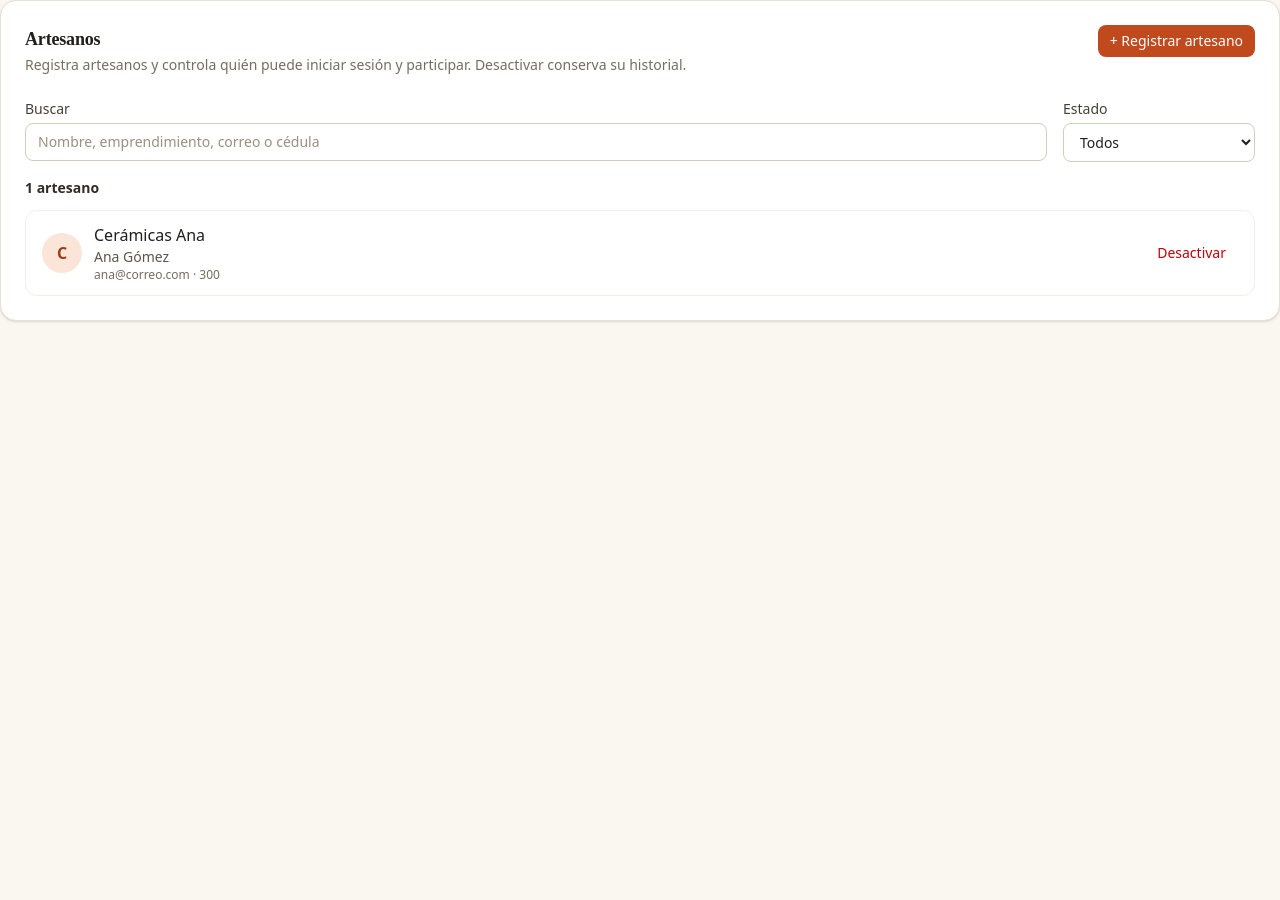
Test: GestionArtesanos: cambiar el estado › cancelar la confirmación no cambia nada
Click the button "Desactivar".
click(1192, 253)  # box [1145,237,1238,269]
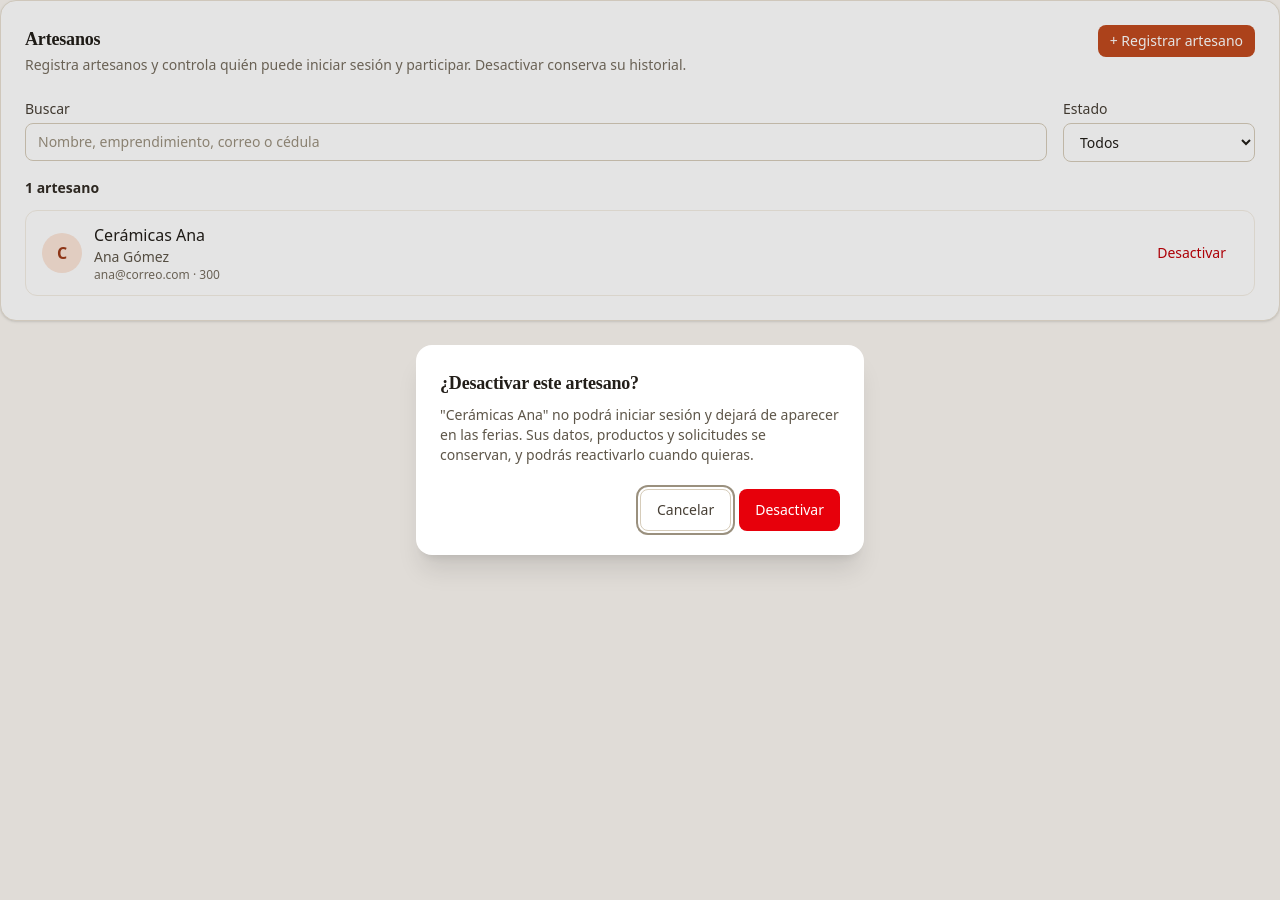
Click the button "Cancelar".
click(686, 510)  # box [640,489,731,531]
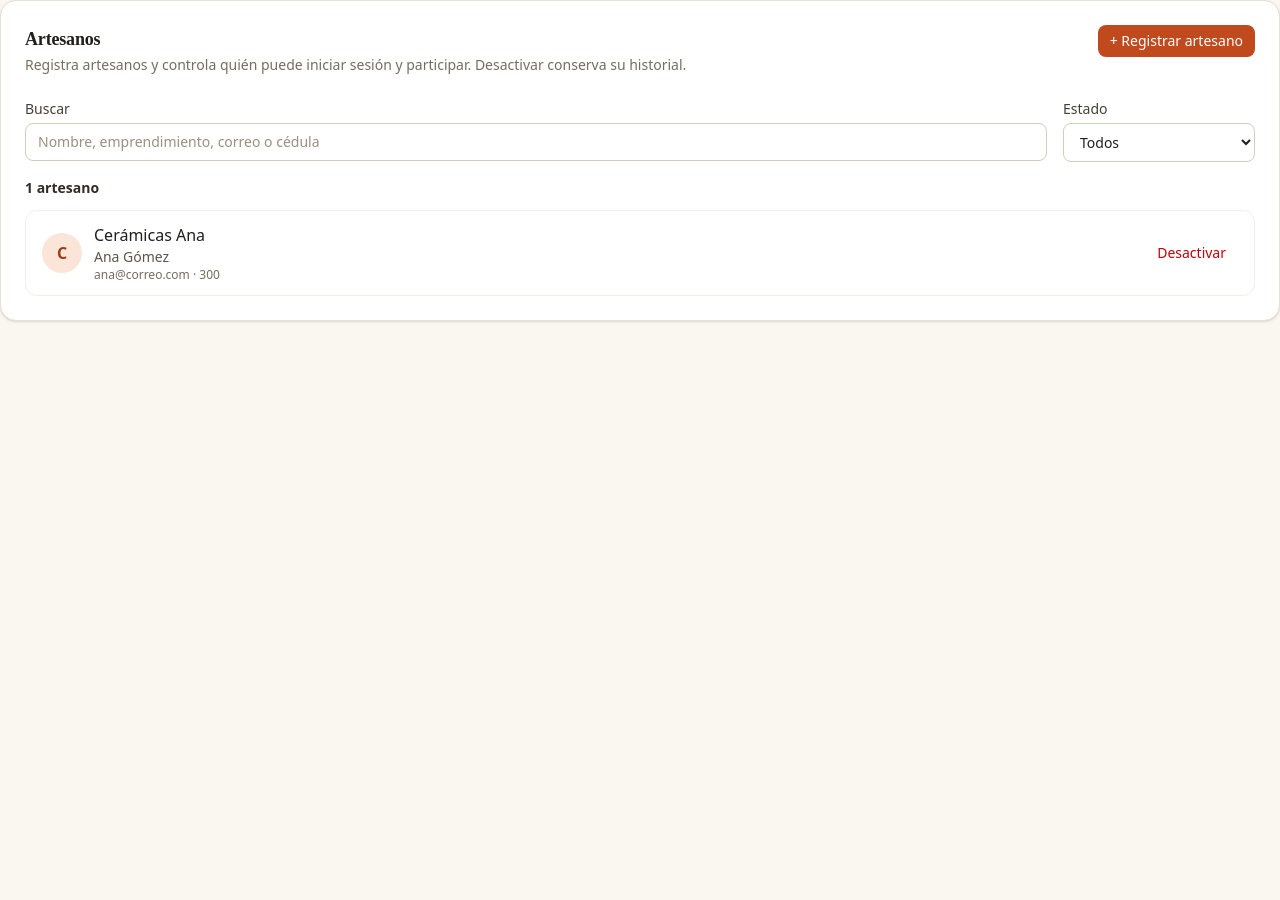
Check: the dialog is gone
